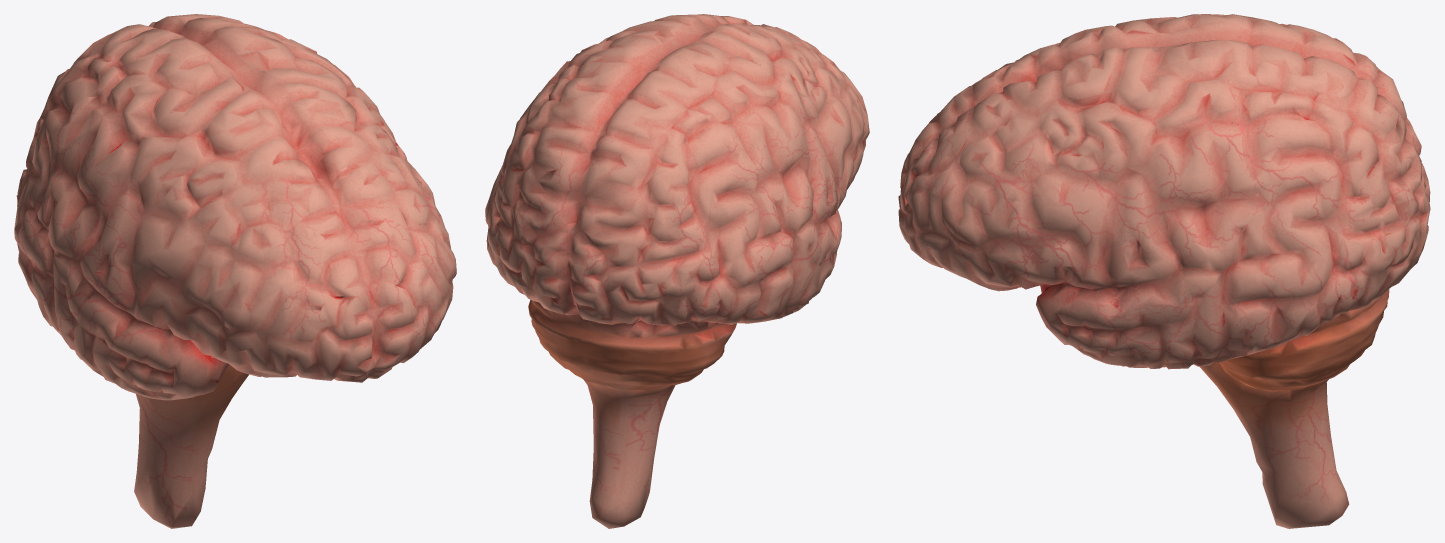
File: brain.gltf
3 renders of one model, left to right at view 1: azimuth 30°, elevation 25°; view 2: azimuth 150°, elevation 25°; view 3: azimuth 270°, elevation 25°, orthographic. The views are drawn at different scales.
Parts seen in each view (by area): view 1: Icosphere; view 2: Icosphere; view 3: Icosphere.
Part boxes in pixels (x1=…): Icosphere: x1=14, y1=14, x2=456, y2=528; Icosphere: x1=485, y1=14, x2=869, y2=528; Icosphere: x1=898, y1=14, x2=1430, y2=528.
Bounding box in the file's own units: 236 × 353 × 344.
1 material, 1 textured.
